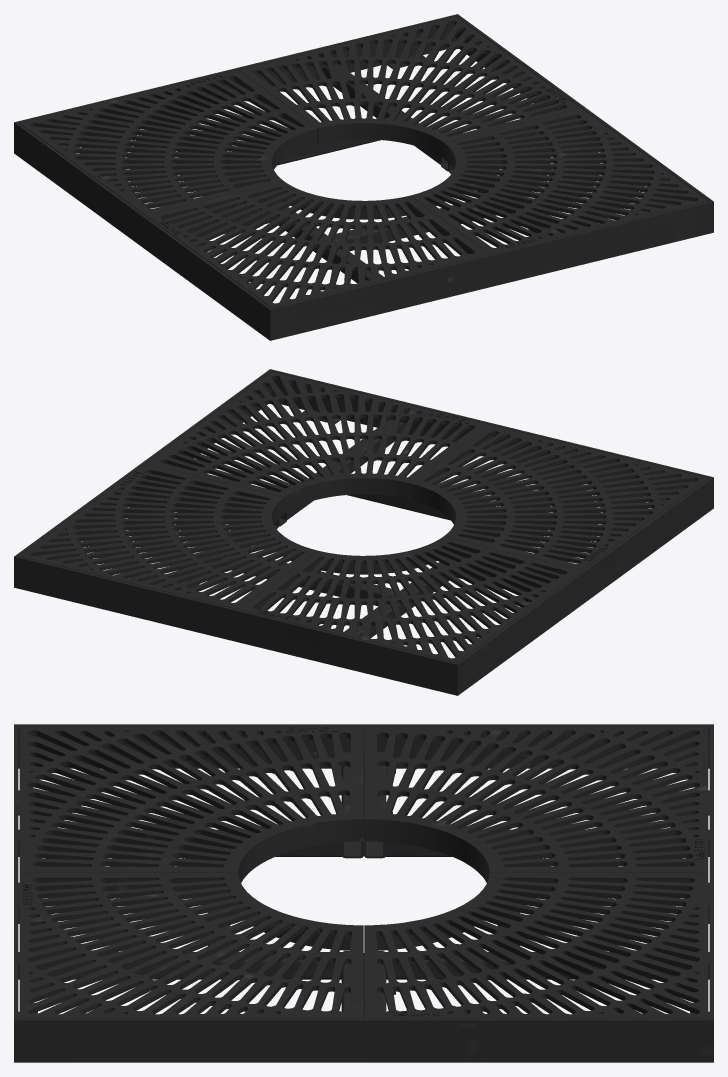
The model's file is tree-grate-and-frame.glb.
The picture shows the model from 3 angles, top to bottom: view 1: azimuth 30°, elevation 25°; view 2: azimuth 150°, elevation 25°; view 3: azimuth 270°, elevation 25°; orthographic projection. The views are drawn at different scales.
Visible parts, largest first — view 1: NAUO6_high; view 2: NAUO6_high; view 3: NAUO6_high.
Part boxes in pixels (box(x1,y1,x2,y2)): NAUO6_high: box(14, 14, 713, 340); NAUO6_high: box(14, 369, 713, 695); NAUO6_high: box(14, 724, 713, 1062).
Size of the model in its own units: 1.26 by 0.087 by 1.26.
Materials: 1 (1 with a texture image).
